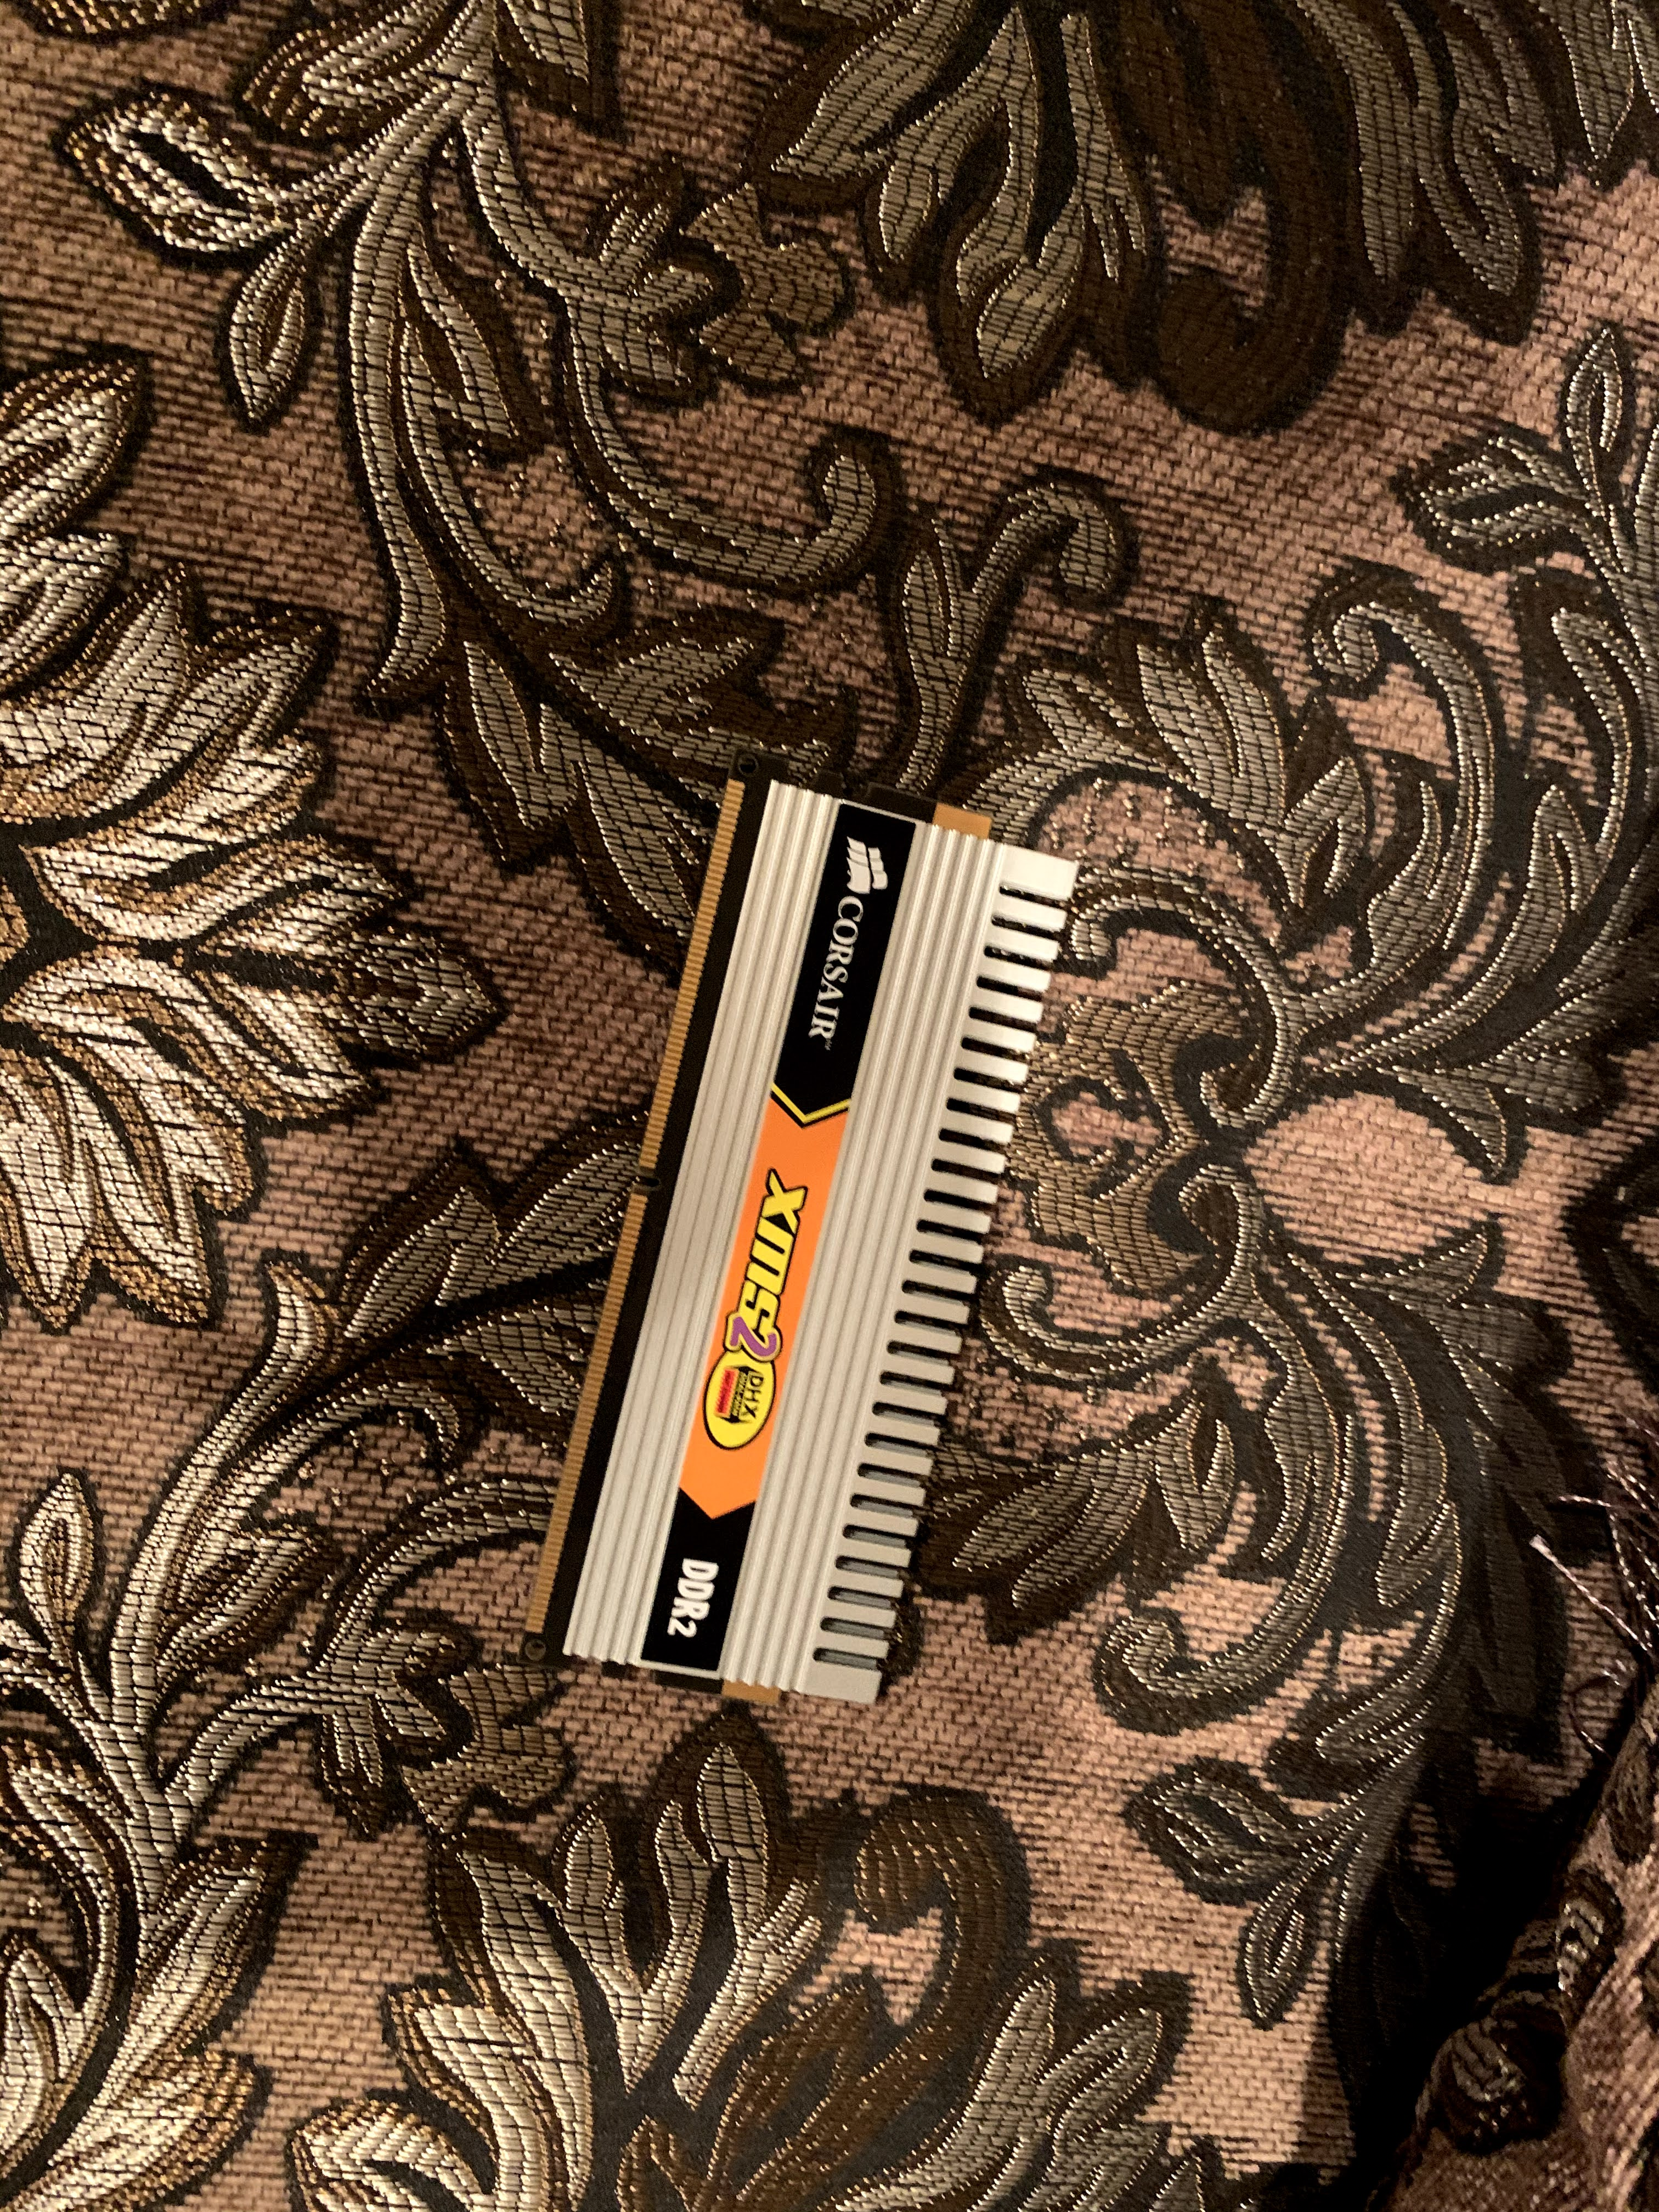Space-debris-medium: (538, 705, 1114, 1791)
